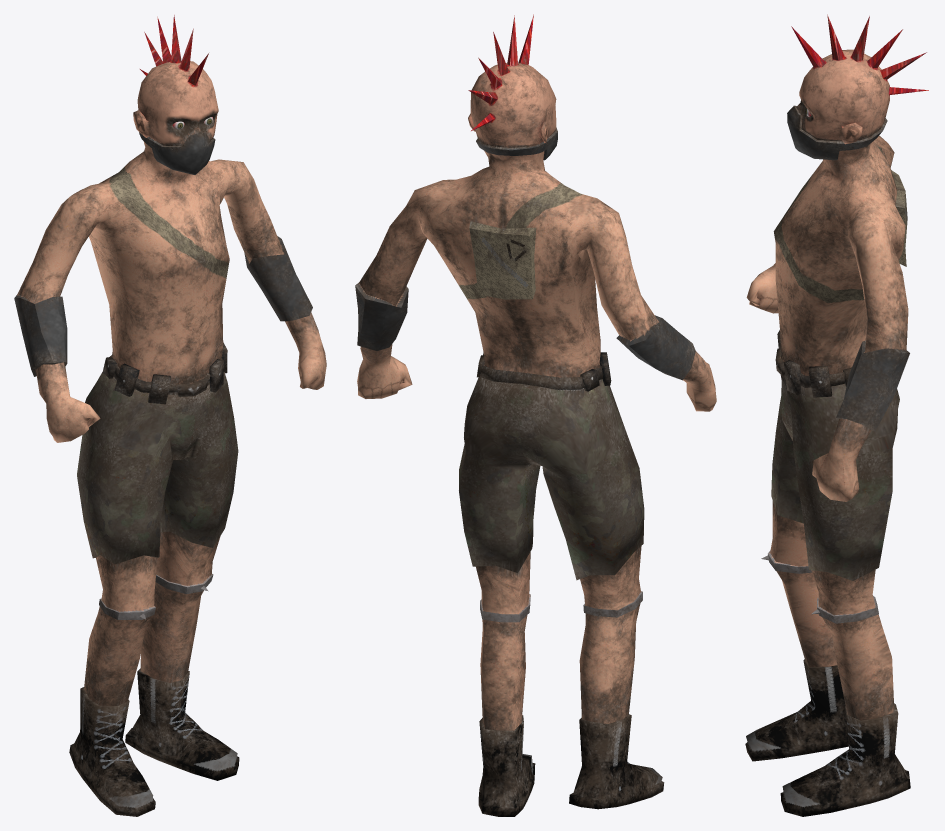
File: Anim_disparar_pistola_npc2.0029.obj
3 views of the same model, side by side, from view 1: azimuth 30°, elevation 25°; view 2: azimuth 150°, elevation 25°; view 3: azimuth 270°, elevation 25° (orthographic). The views are drawn at different scales.
Parts seen in each view (by area): view 1: polySurface1; view 2: polySurface1; view 3: polySurface1.
Boxes of the visible parts, x1,y1,x2,y2 form: polySurface1: [14, 15, 326, 816]; polySurface1: [355, 14, 716, 816]; polySurface1: [745, 14, 928, 816].
Size of the model in its own units: 4.49 by 10.21 by 2.18.
2 materials, 2 textured.
